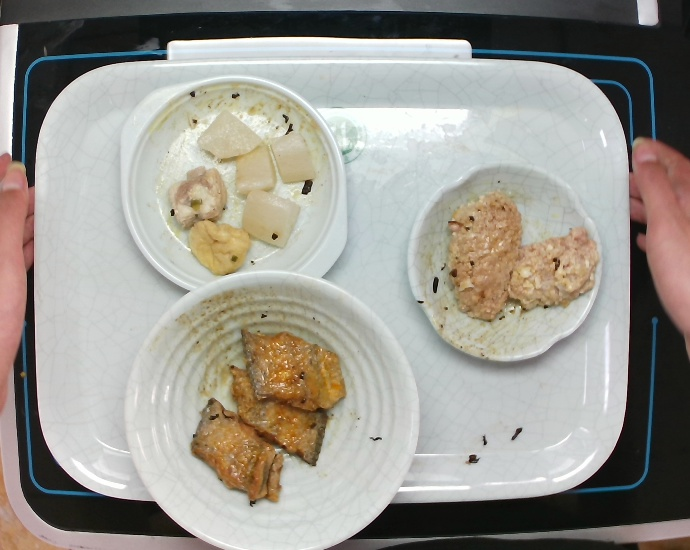JYsf-Ao_Yuan_Wan: (403, 158, 605, 365)
JYsf-Shuang_Er_Pan: (117, 72, 350, 296)
JYsf-Xiao_Tang_Wan: (122, 267, 423, 550)
